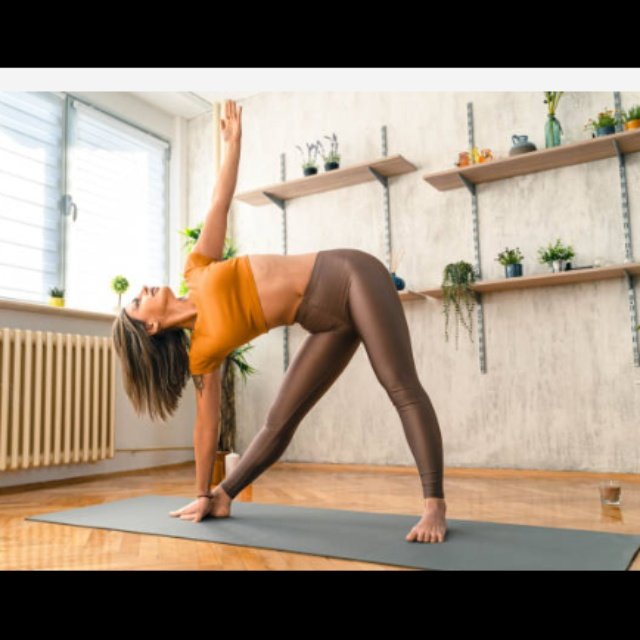Triangle_Pose: (99, 98, 467, 555)
